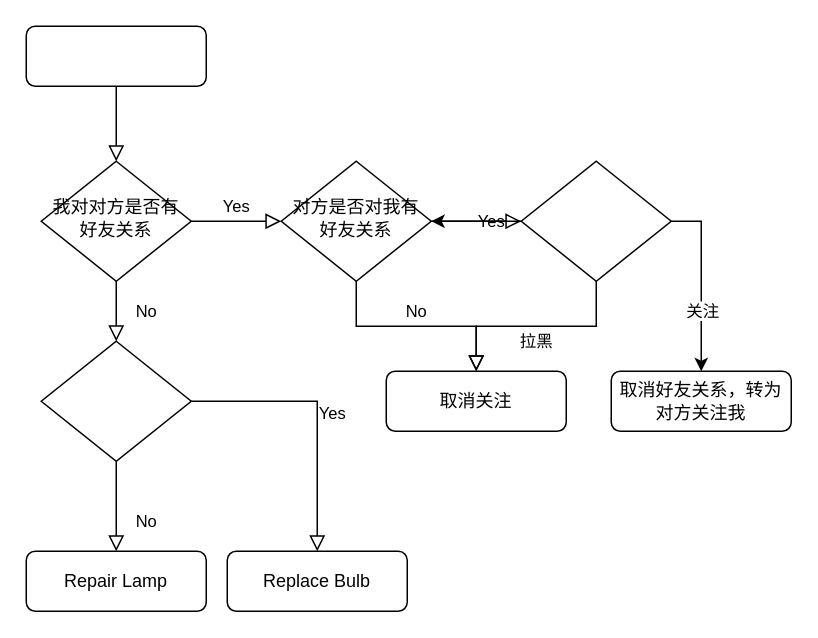
Image size: 818x638. Some labels were removed from this diagram. The centre of each missing label's shape, as x and y in pixels:
"发起/取消关注" goes at (115,55).
"对方是否对我有关系" goes at (115,400).
"拉黑或互相关注" goes at (595,220).
